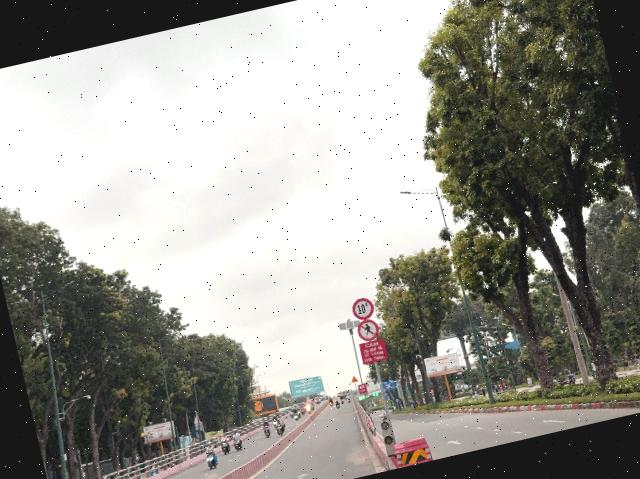cam-nguoi-di-bo: (355, 317, 381, 343)
han-che-trong-luong-xe: (350, 295, 376, 321)
